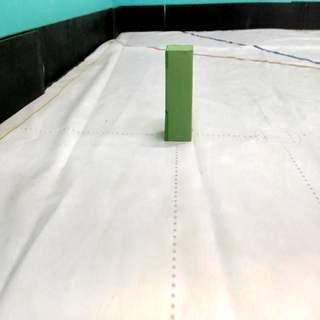greenbox: (164, 42, 195, 143)
